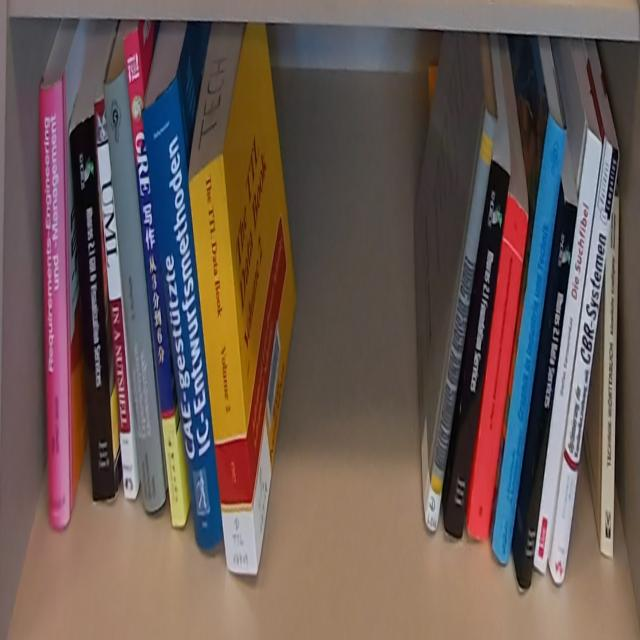Book Spine: (141, 76, 223, 551), (491, 110, 567, 569), (423, 106, 501, 538), (532, 124, 603, 582), (122, 30, 186, 533), (548, 139, 620, 585), (188, 152, 258, 575), (102, 69, 167, 517), (444, 152, 512, 546), (519, 202, 577, 592), (468, 191, 528, 539), (67, 113, 115, 506), (92, 98, 137, 506), (37, 73, 71, 533), (600, 196, 620, 563)
